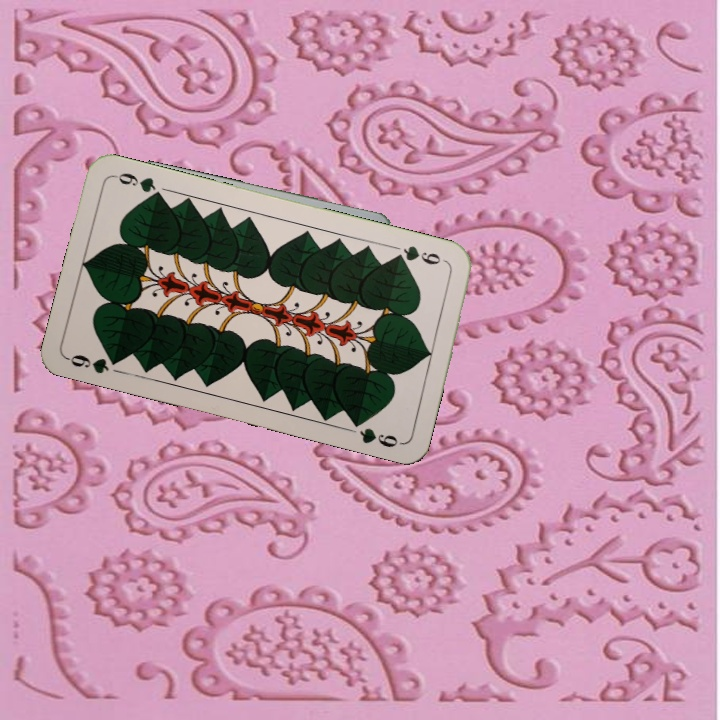G9: (389, 241, 450, 268), (64, 350, 125, 376)
